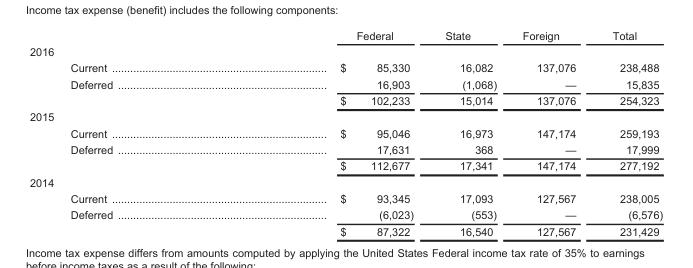table: (29, 28, 662, 237)
table column: (225, 28, 428, 237), (29, 28, 225, 237), (508, 28, 593, 237), (428, 28, 508, 237), (593, 28, 662, 237)
table column header: (29, 28, 662, 43)
table projected row header: (29, 173, 662, 190), (29, 43, 662, 59), (29, 108, 662, 124)
table row: (29, 75, 662, 92), (29, 124, 662, 141), (29, 173, 662, 190), (29, 43, 662, 59), (29, 59, 662, 75), (29, 92, 662, 108), (29, 108, 662, 124), (29, 141, 662, 157), (29, 157, 662, 173), (29, 190, 662, 206), (29, 206, 662, 222), (29, 28, 662, 43), (29, 222, 662, 237)
